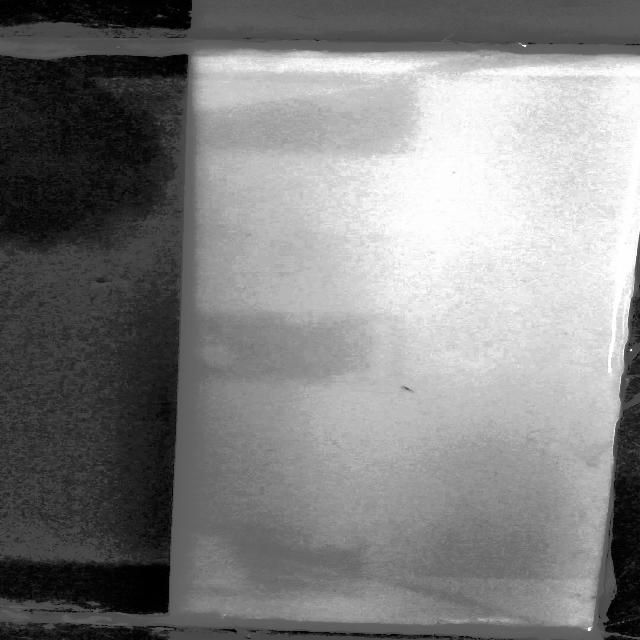shrimp: (402, 383, 418, 395)
